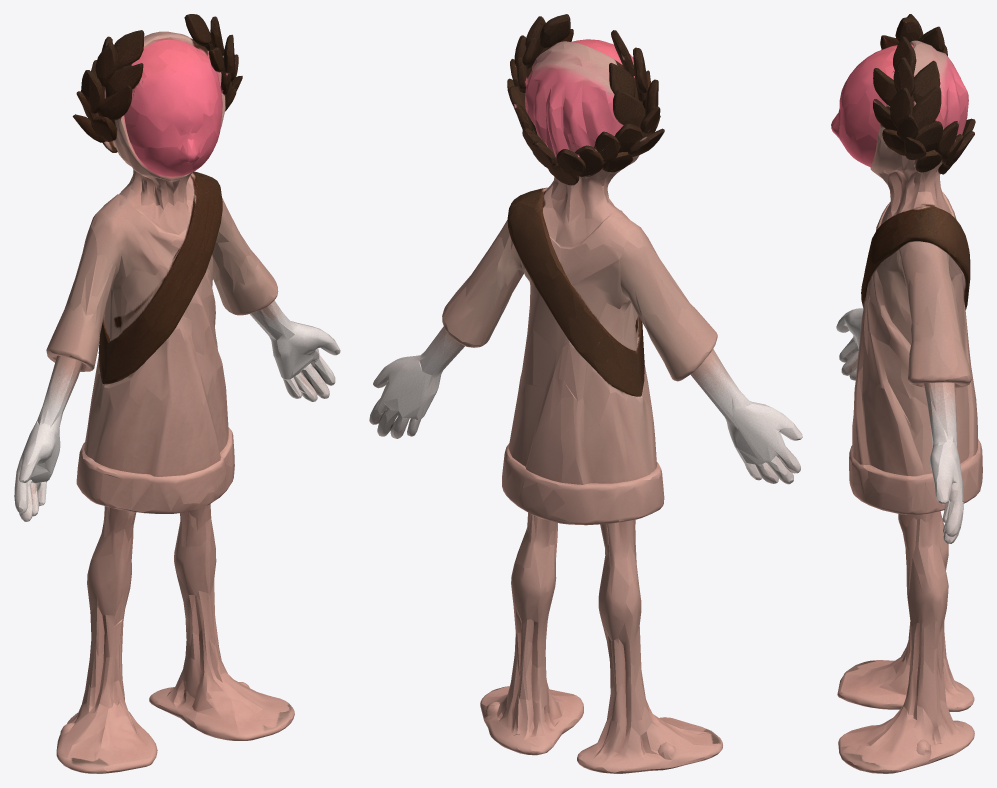
3 views of the same model, side by side, from view 1: azimuth 30°, elevation 25°; view 2: azimuth 150°, elevation 25°; view 3: azimuth 270°, elevation 25° (orthographic). The views are drawn at different scales.
Bounding box in the file's own units: 1.04 × 1.9 × 0.3755.
1 material, 1 textured.
